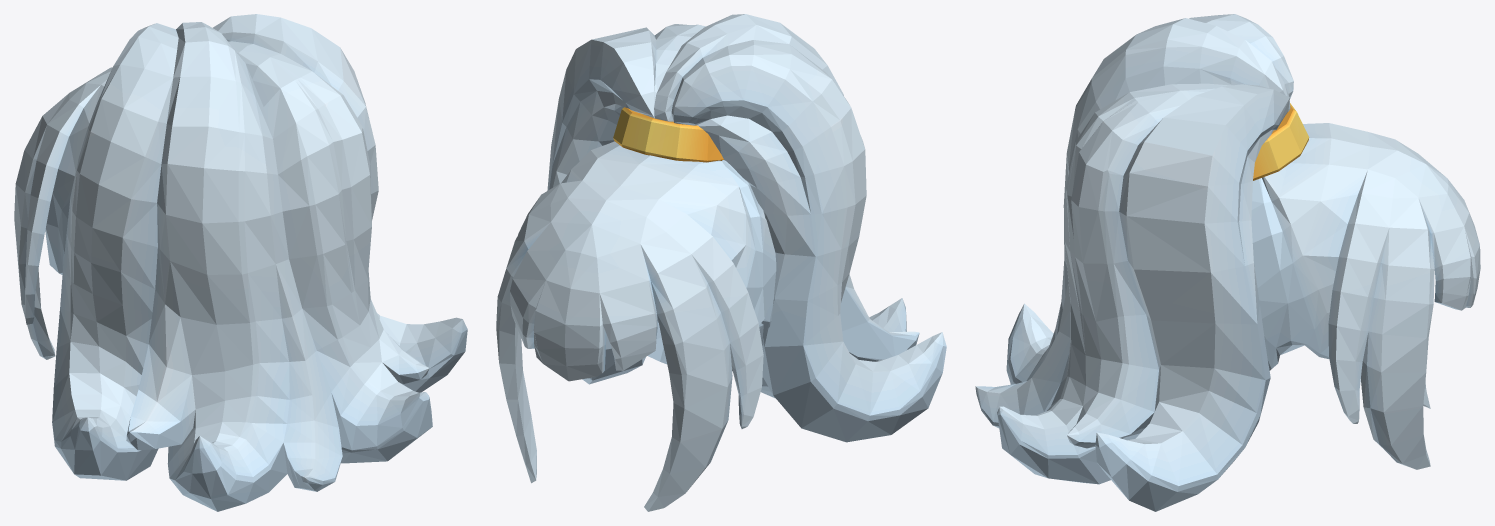
The model's file is CharSkyKid_Hair_AP30HighPonytail.glb.
The picture shows the model from 3 angles, left to right: view 1: azimuth 30°, elevation 25°; view 2: azimuth 150°, elevation 25°; view 3: azimuth 270°, elevation 25°; orthographic projection.
Parts seen in each view (by area): view 1: CharSkyKid_Hair_AP30HighPonytail; view 2: CharSkyKid_Hair_AP30HighPonytail; view 3: CharSkyKid_Hair_AP30HighPonytail.
Part boxes in pixels (x1,y1,x2,y2): CharSkyKid_Hair_AP30HighPonytail: (14,14,467,511); CharSkyKid_Hair_AP30HighPonytail: (496,14,946,511); CharSkyKid_Hair_AP30HighPonytail: (975,14,1480,511).
Bounding box in the file's own units: 4.15 × 4.17 × 4.63.
Materials: 1 (1 with a texture image).
